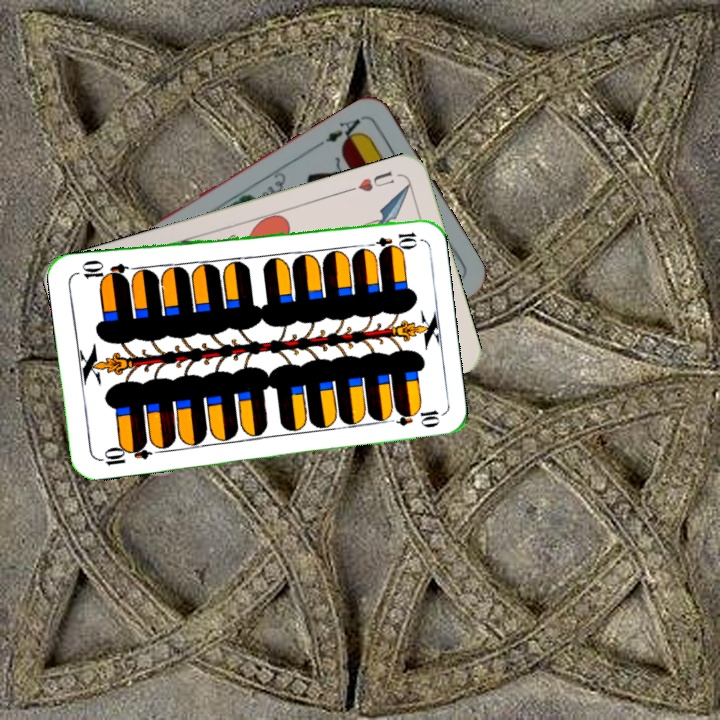E10: (94, 438, 153, 468), (361, 228, 420, 252)
EA: (321, 112, 367, 149)
HU: (344, 166, 397, 195)
